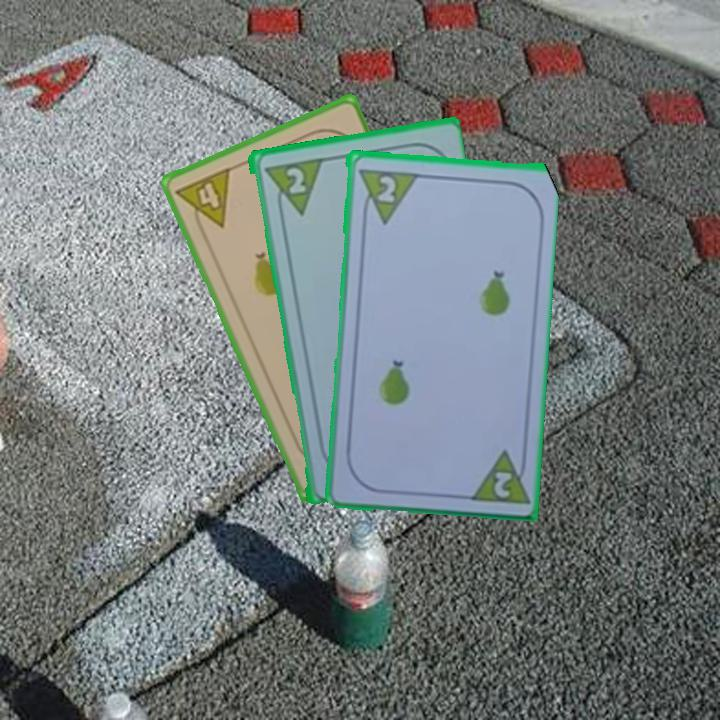2p: (464, 445, 530, 507), (354, 165, 418, 226), (282, 163, 308, 197)
4p: (172, 163, 234, 239)
